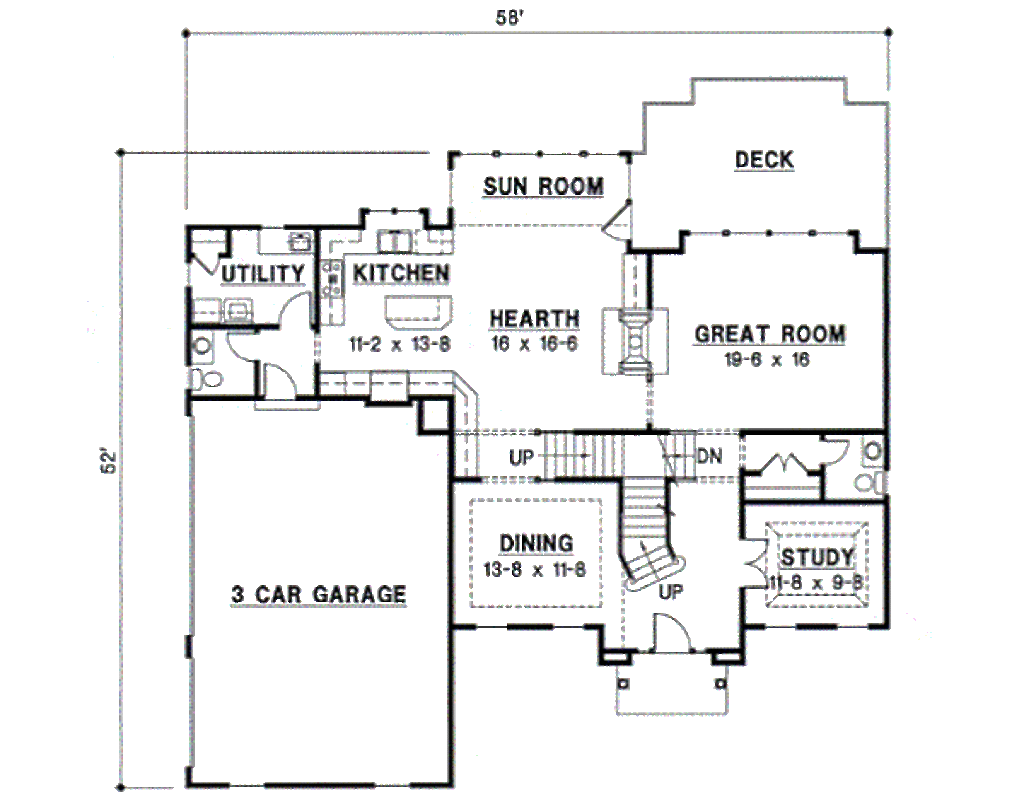door: (739, 534, 773, 596), (651, 610, 692, 654), (599, 201, 634, 249), (261, 360, 301, 402), (222, 327, 262, 365), (273, 290, 311, 329), (761, 451, 809, 480), (821, 434, 850, 471)
kitchen_bar: (380, 286, 457, 338)
large_sink: (184, 366, 225, 394)
stairs: (539, 427, 688, 597)
